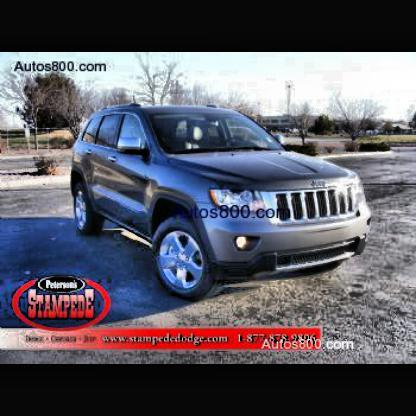Jeep Grand Cherokee SUV 2012: (72, 104, 372, 296)
